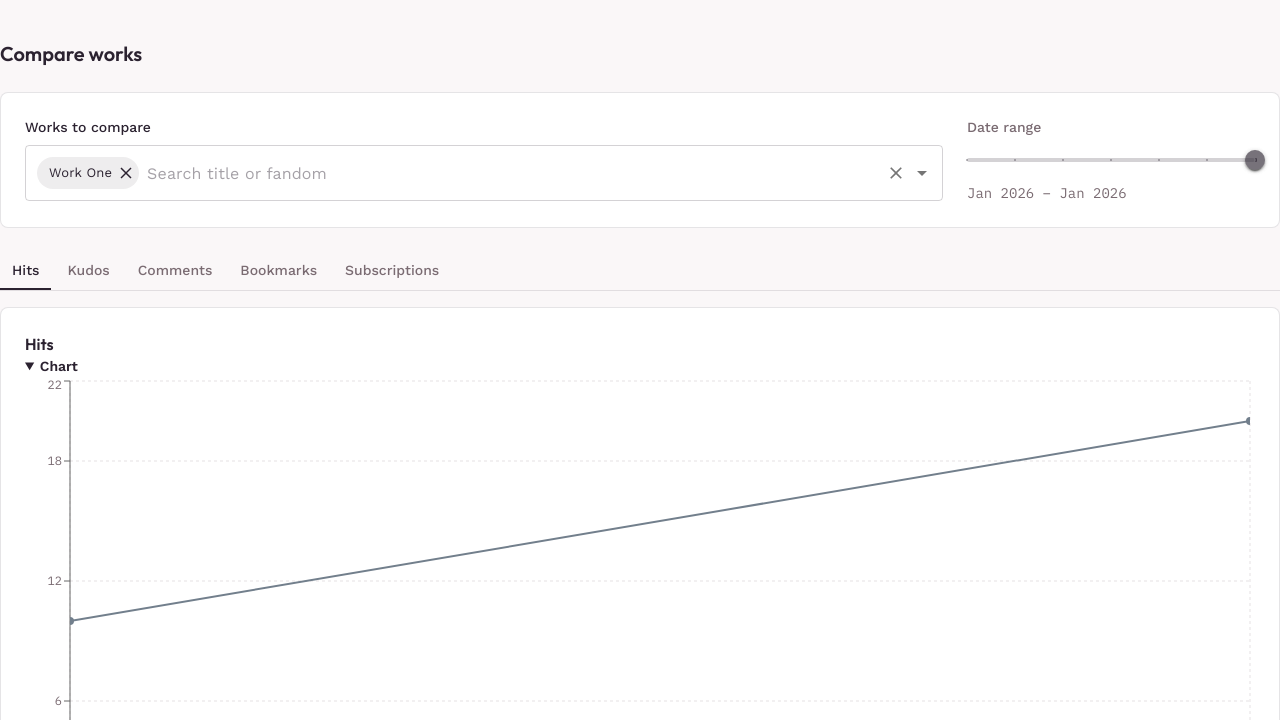
WorkComparisonSection: Bookmarks By Type › renders a Bookmark types checkbox group in a fieldset/legend, Total checked by default
Click the tab "Bookmarks" at (279, 271), box [228, 252, 329, 290]
(page scrolled)
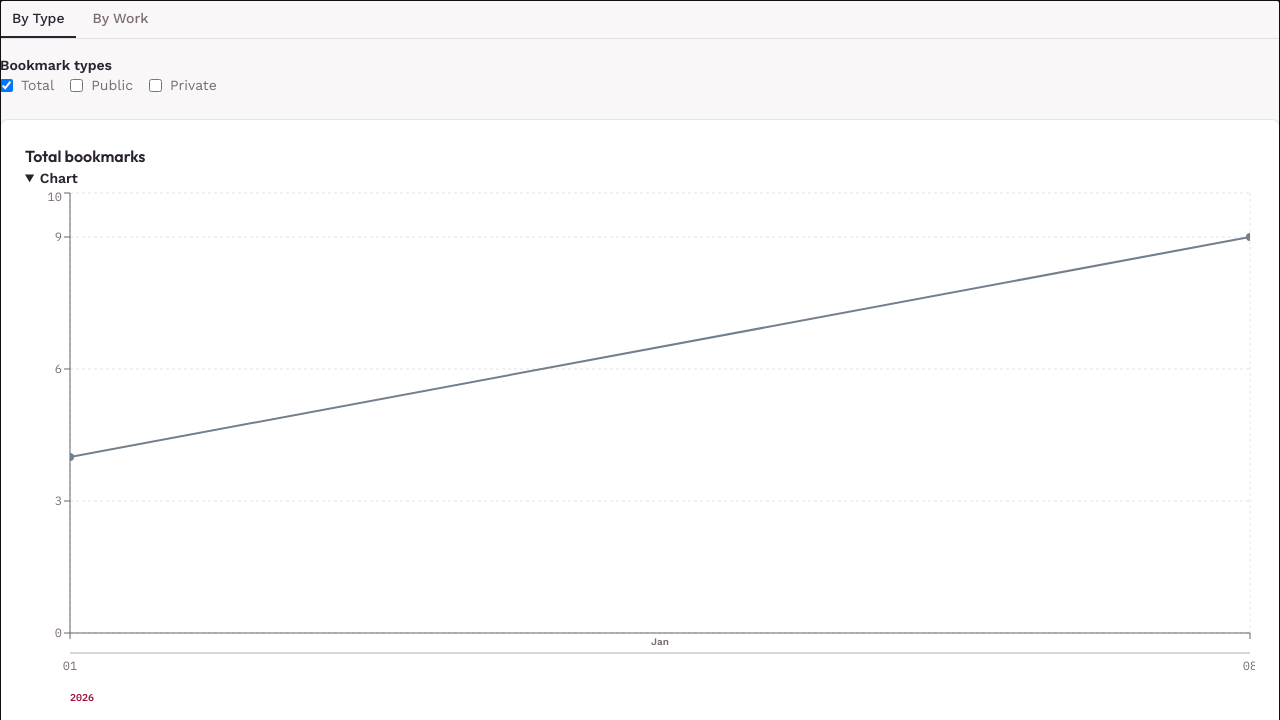
Expected: the checkbox labelled "Total" is checked, [0, 78, 13, 92]
Expected: the checkbox labelled "Public" is not checked, [70, 78, 83, 92]
Expected: the checkbox labelled "Private" is not checked, [149, 78, 162, 92]
